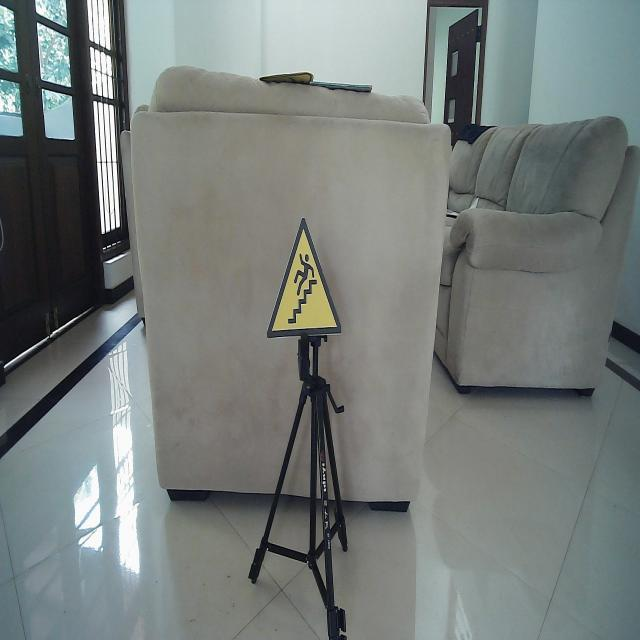stairs: (265, 214, 343, 340)
